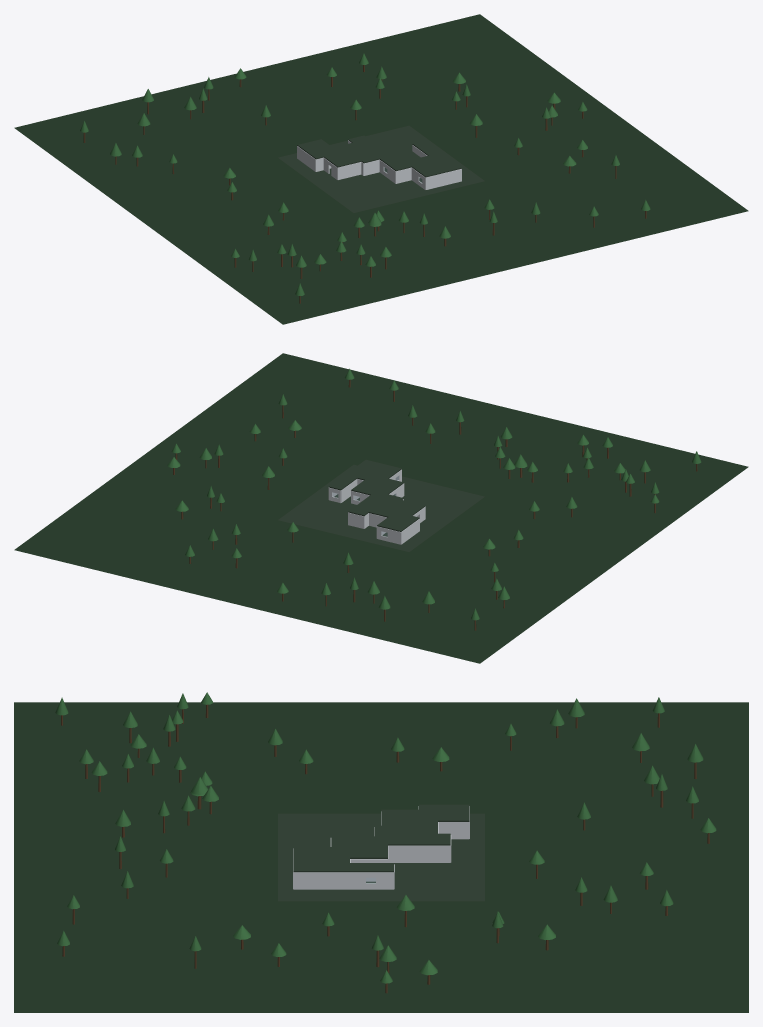
The model's file is level-zigzag.glb.
3 views of the same model, one above another, from view 1: azimuth 30°, elevation 25°; view 2: azimuth 150°, elevation 25°; view 3: azimuth 270°, elevation 25° (orthographic). The views are drawn at different scales.
Visible parts, largest first — view 1: svg-stage; view 2: svg-stage; view 3: svg-stage.
Boxes of the visible parts, <box> form: svg-stage: <box>14,14,748,324</box>; svg-stage: <box>14,353,748,663</box>; svg-stage: <box>14,692,748,1012</box>.
Size of the model in its own units: 117 by 6.2 by 117.
